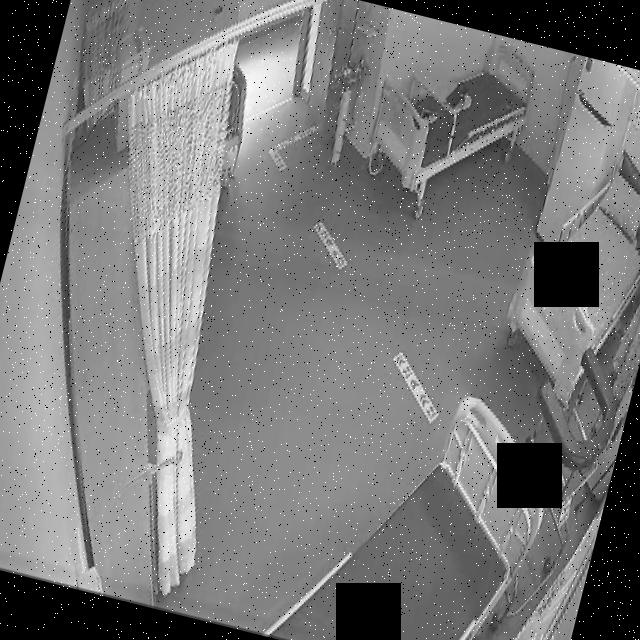bed: (267, 360, 569, 640), (493, 151, 640, 400), (359, 18, 540, 211)
